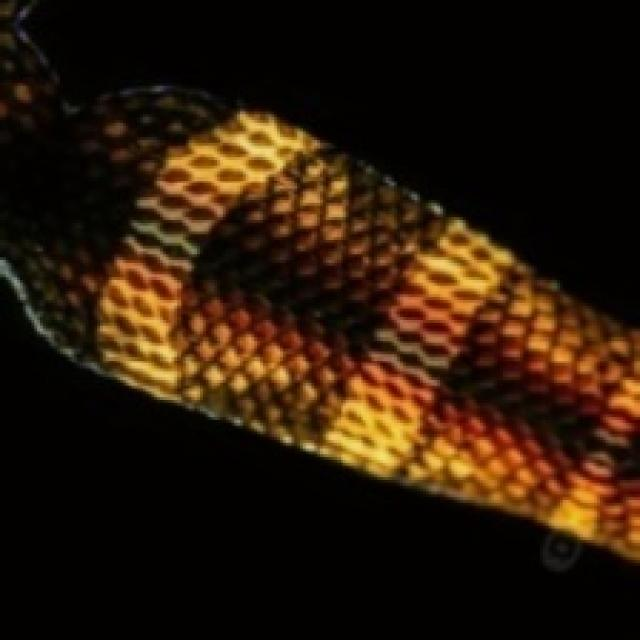king cobra: (0, 3, 637, 554), (40, 9, 637, 274)
